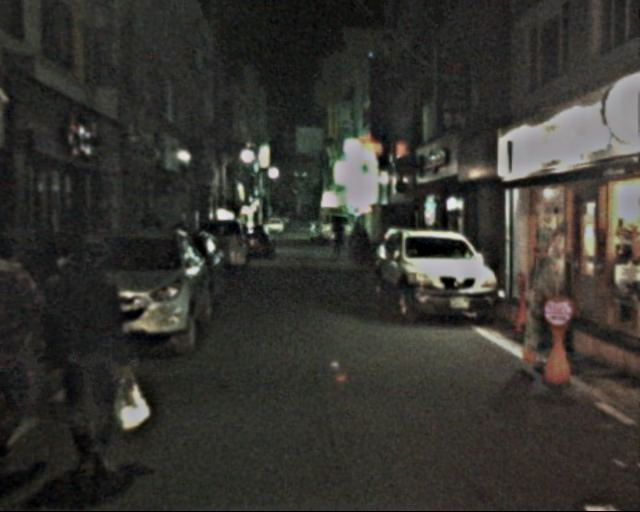person: (35, 233, 145, 487), (2, 225, 55, 490), (331, 218, 349, 259)
